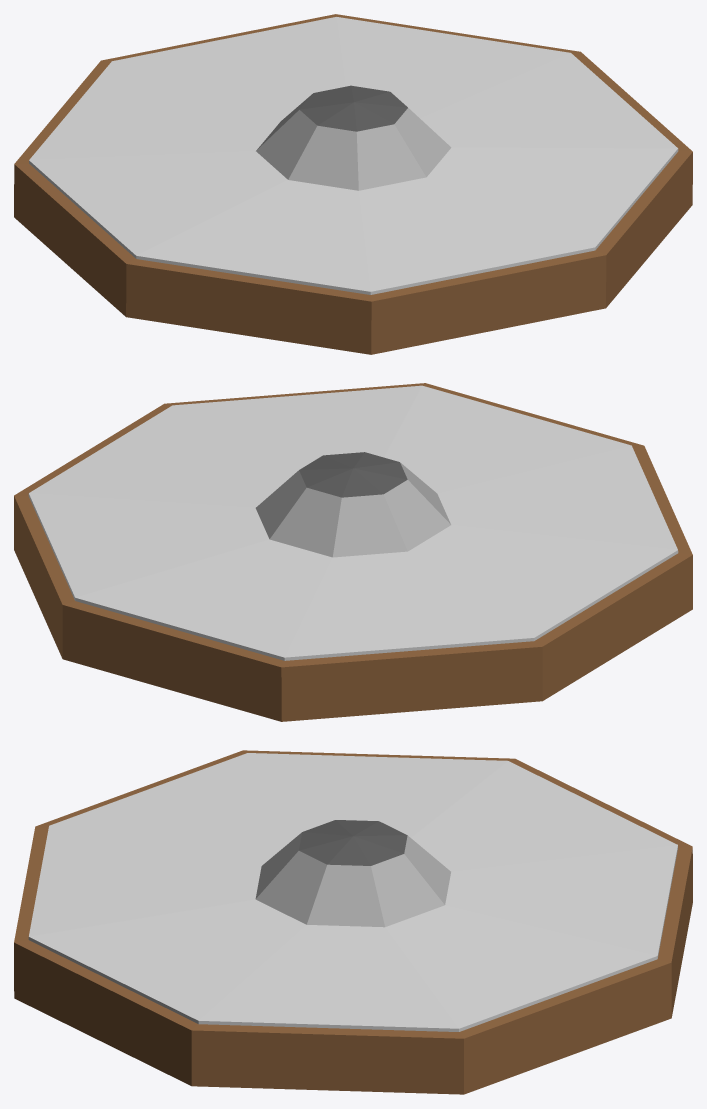
File: Shield_snow_mat.fbx
The picture shows the model from 3 angles, top to bottom: view 1: azimuth 30°, elevation 25°; view 2: azimuth 150°, elevation 25°; view 3: azimuth 270°, elevation 25°; orthographic projection. The views are drawn at different scales.
Visible parts, largest first — view 1: Shield_snow_mat; view 2: Shield_snow_mat; view 3: Shield_snow_mat.
Boxes of the visible parts, x1,y1,x2,y2 form: Shield_snow_mat: (14, 14, 692, 354); Shield_snow_mat: (14, 383, 692, 721); Shield_snow_mat: (14, 750, 692, 1094).
Bounding box in the file's own units: 0.4828 × 0.0908 × 0.4827.
